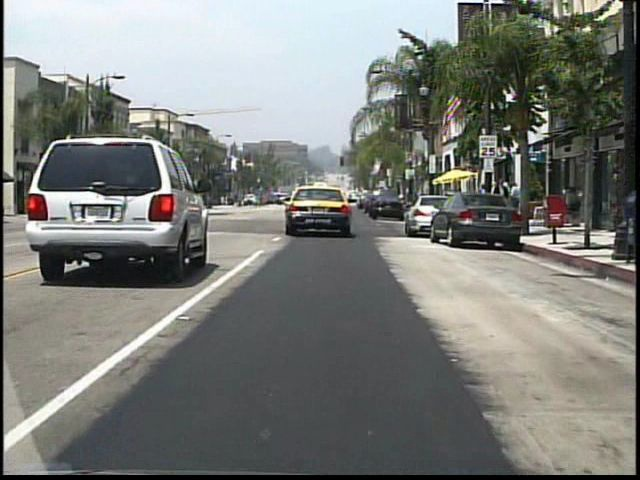person: (492, 177, 509, 213), (508, 180, 522, 223), (490, 179, 503, 217), (502, 183, 514, 216), (275, 190, 283, 205)
